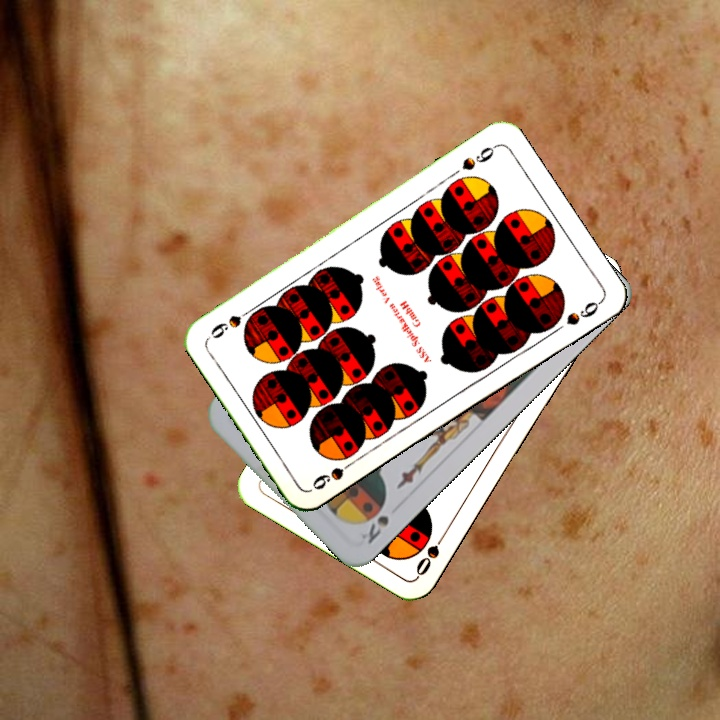S9: (308, 454, 360, 493), (457, 140, 500, 173)
SK: (355, 511, 392, 547)
SO: (412, 526, 451, 579)
